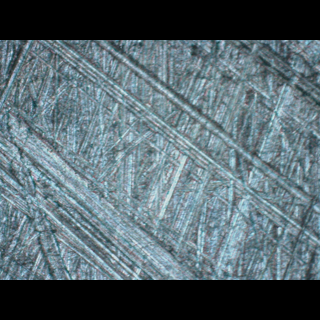d: (1, 40, 319, 279)
